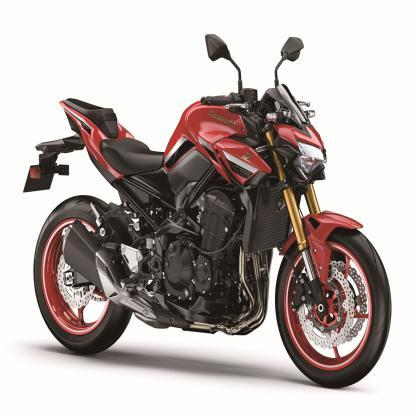Motorcycle: (16, 11, 396, 390)
